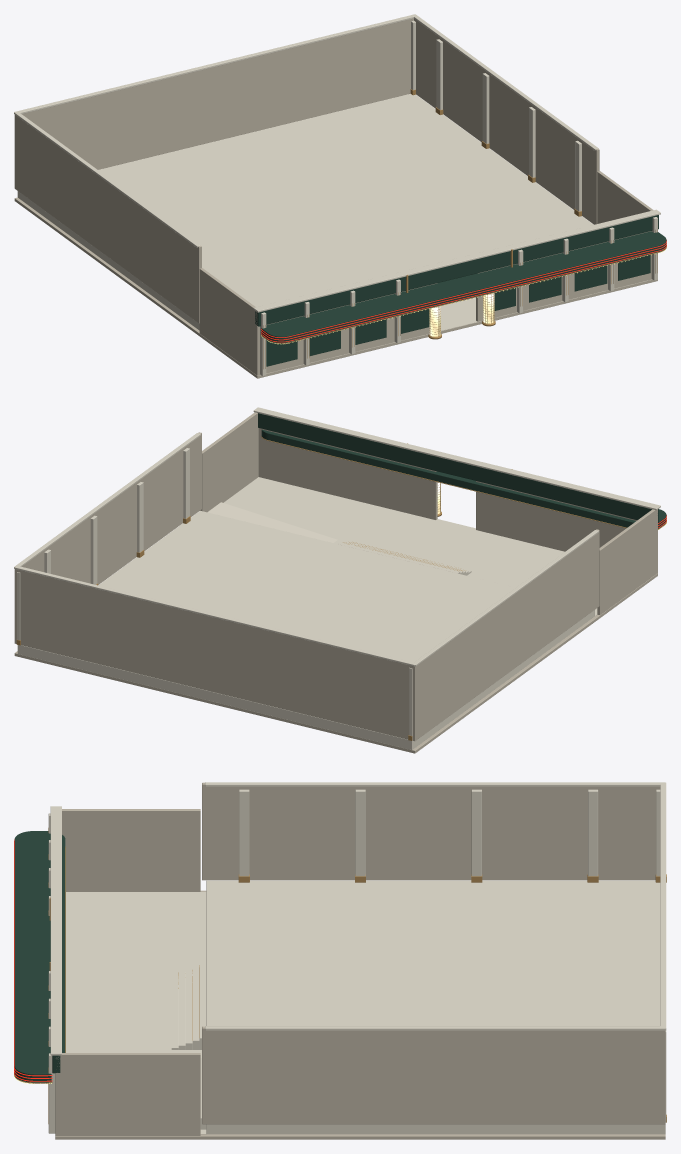
Rendered from meridian-shell.glb.
3 views of the same model, one above another, from view 1: azimuth 30°, elevation 25°; view 2: azimuth 150°, elevation 25°; view 3: azimuth 270°, elevation 25° (orthographic). The views are drawn at different scales.
Parts seen in each view (by area): view 1: Meridian honed limestone, Meridian limestone, Meridian evergreen upholstery, Meridian brushed bronze, Meridian glass glow, Meridian neon red chase 0, Meridian neon red chase 1, Meridian neon red chase 2; view 2: Meridian limestone, Meridian honed limestone, Meridian evergreen upholstery, Meridian brushed bronze; view 3: Meridian limestone, Meridian honed limestone, Meridian evergreen upholstery, Meridian brushed bronze.
Part boxes in pixels (x1,y1,x2,y2): Meridian honed limestone: (14, 14, 660, 376); Meridian limestone: (14, 18, 657, 378); Meridian evergreen upholstery: (255, 215, 666, 366); Meridian brushed bronze: (261, 89, 666, 368); Meridian glass glow: (429, 293, 494, 336); Meridian neon red chase 0: (261, 245, 666, 342); Meridian neon red chase 1: (261, 243, 666, 340); Meridian neon red chase 2: (261, 240, 666, 337); Meridian limestone: (14, 412, 657, 753); Meridian honed limestone: (14, 407, 660, 749); Meridian evergreen upholstery: (258, 413, 666, 528); Meridian brushed bronze: (16, 436, 666, 740); Meridian limestone: (55, 782, 665, 1139); Meridian honed limestone: (48, 782, 666, 1134); Meridian evergreen upholstery: (14, 831, 65, 1082); Meridian brushed bronze: (14, 828, 666, 1123).
Bounding box in the file's own units: 40.25 × 8.49 × 44.93.
